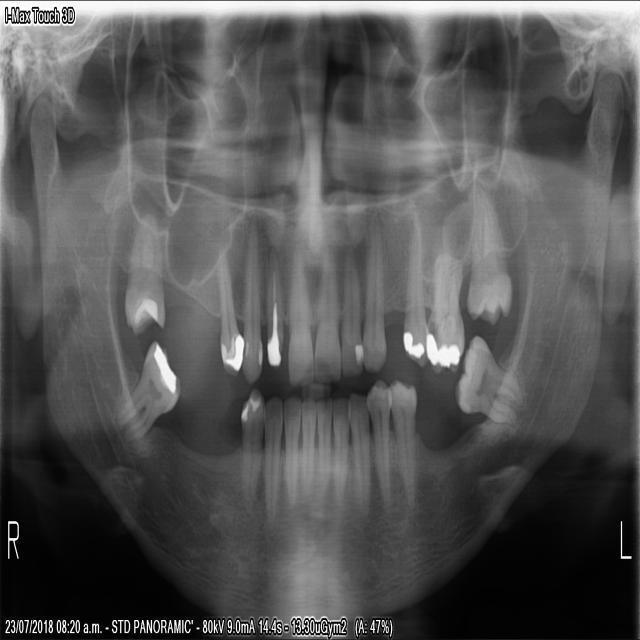LCD: (350, 388, 372, 519)
LCU: (362, 203, 388, 375)
LID: (331, 394, 350, 508), (316, 395, 333, 497)
LIU: (313, 238, 342, 385), (340, 244, 363, 381)
LMD: (452, 331, 525, 439)
LMU: (465, 179, 514, 330), (427, 245, 466, 379)
LPMD: (366, 377, 392, 516), (392, 377, 417, 511)
LPMU: (398, 200, 428, 371)
RCD: (261, 388, 280, 540)
RCU: (239, 207, 262, 387)
RID: (281, 392, 298, 513), (299, 396, 316, 511)
RIU: (285, 242, 313, 392)
RMD: (112, 337, 180, 444)
RMU: (121, 205, 166, 337)
RPMD: (236, 387, 261, 519)
RPMU: (215, 242, 238, 380)
